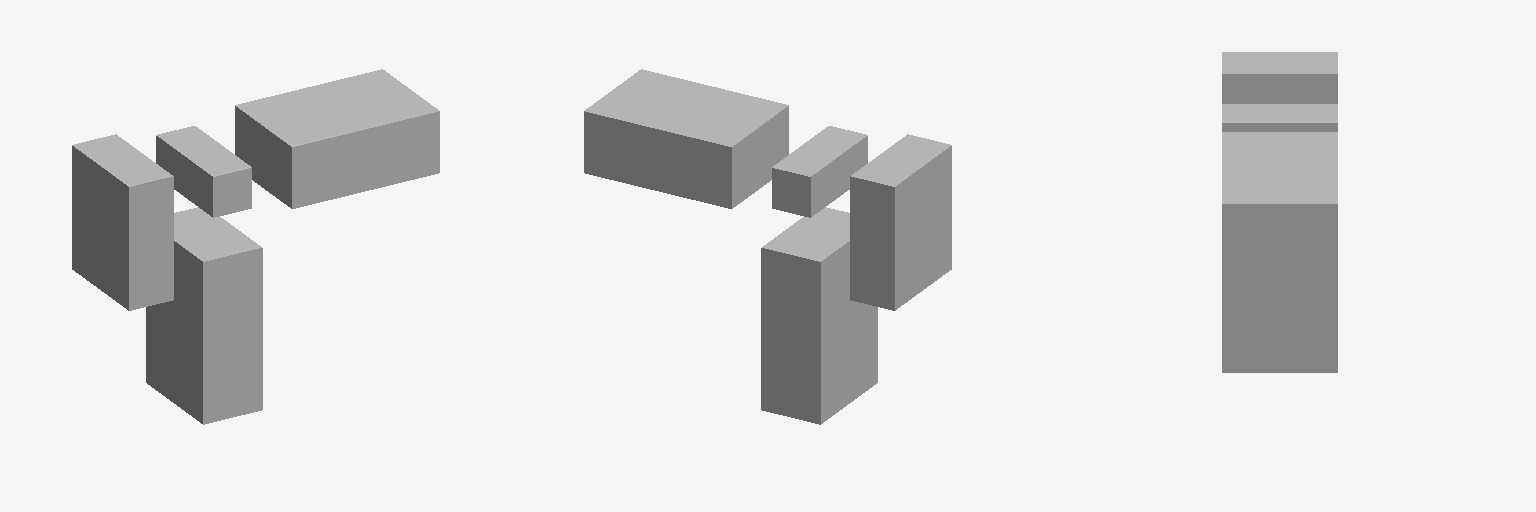
File: U2E_anim5.obj
3 renders of one model, left to right at view 1: azimuth 30°, elevation 25°; view 2: azimuth 150°, elevation 25°; view 3: azimuth 270°, elevation 25°, orthographic.
Visible parts, largest first — view 1: kulmatalot; view 2: kulmatalot; view 3: kulmatalot.
Boxes of the visible parts, x1=… form: kulmatalot: x1=72, y1=69, x2=439, y2=424; kulmatalot: x1=584, y1=69, x2=951, y2=424; kulmatalot: x1=1222, y1=52, x2=1337, y2=372.
Size of the model in its own units: 82.03 by 64.45 by 26.27.